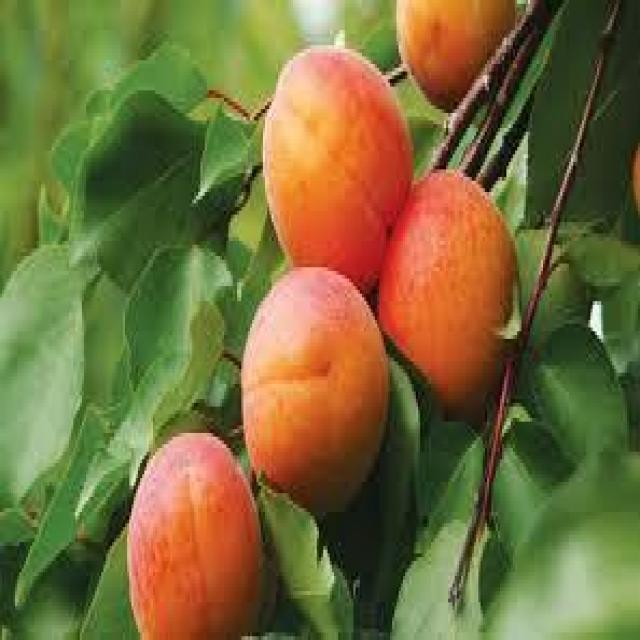kayisi: (258, 33, 419, 309), (370, 160, 526, 439), (237, 255, 395, 522), (122, 422, 272, 640)
yaprak: (65, 80, 212, 307), (486, 424, 640, 640), (0, 236, 94, 522)
